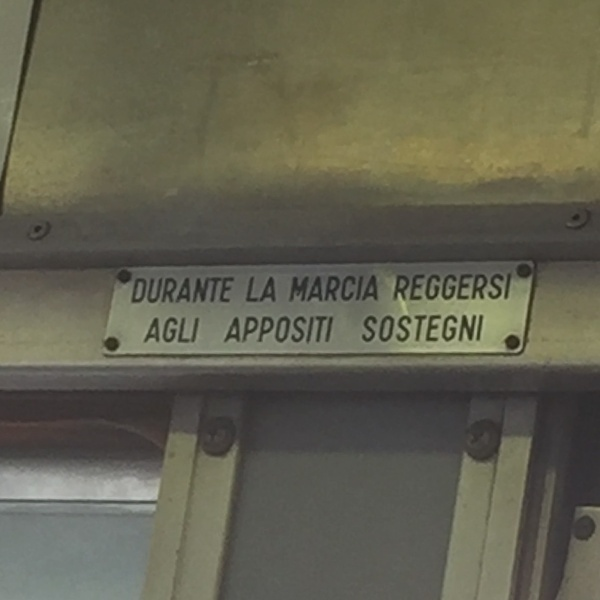text: (401, 272, 416, 303), (417, 272, 432, 303), (433, 272, 448, 303), (449, 272, 464, 303), (465, 272, 480, 303), (481, 272, 496, 303), (497, 272, 512, 303), (369, 314, 384, 345), (385, 314, 400, 345), (401, 314, 416, 345), (417, 314, 432, 345), (433, 314, 448, 345), (449, 314, 464, 345), (465, 314, 480, 345), (145, 276, 160, 306), (161, 276, 176, 306), (177, 276, 192, 306), (193, 276, 208, 306), (209, 276, 224, 306), (241, 316, 256, 346), (257, 316, 272, 346), (273, 316, 288, 346), (289, 316, 304, 346), (305, 316, 320, 346), (305, 274, 320, 304), (321, 274, 336, 304), (337, 274, 352, 304), (353, 274, 368, 304), (257, 275, 272, 304), (161, 316, 176, 345), (177, 316, 192, 345), (321, 316, 335, 346), (225, 276, 236, 306), (294, 274, 304, 304), (369, 274, 379, 304), (136, 276, 144, 306), (193, 316, 201, 345), (234, 316, 240, 346), (251, 275, 256, 304), (481, 314, 485, 345), (273, 275, 277, 304), (156, 316, 160, 345), (365, 314, 368, 345), (398, 272, 400, 303)
